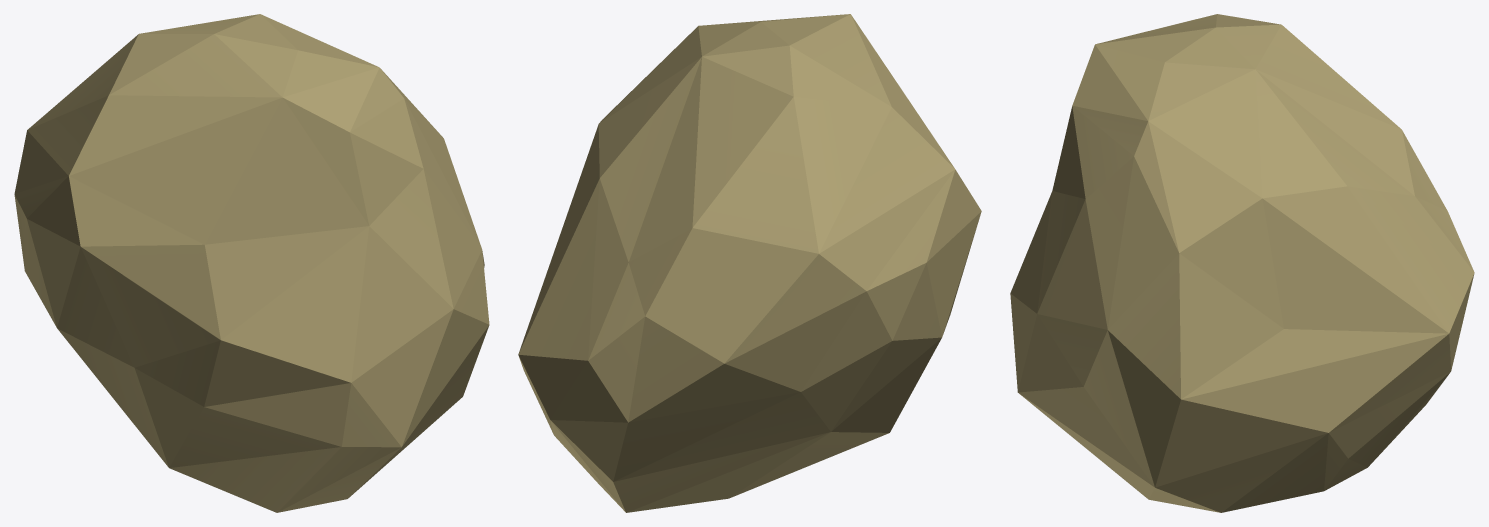
The model's file is SM_small_rock_60.fbx.
The picture shows the model from 3 angles, left to right: view 1: azimuth 30°, elevation 25°; view 2: azimuth 150°, elevation 25°; view 3: azimuth 270°, elevation 25°; orthographic projection. The views are drawn at different scales.
Visible parts, largest first — view 1: small_rock_60; view 2: small_rock_60; view 3: small_rock_60.
Boxes of the visible parts, bbox=[...] form: small_rock_60: bbox=[14, 14, 489, 512]; small_rock_60: bbox=[518, 14, 981, 512]; small_rock_60: bbox=[1010, 14, 1474, 512].
Bounding box in the file's own units: 112 × 119 × 117.
